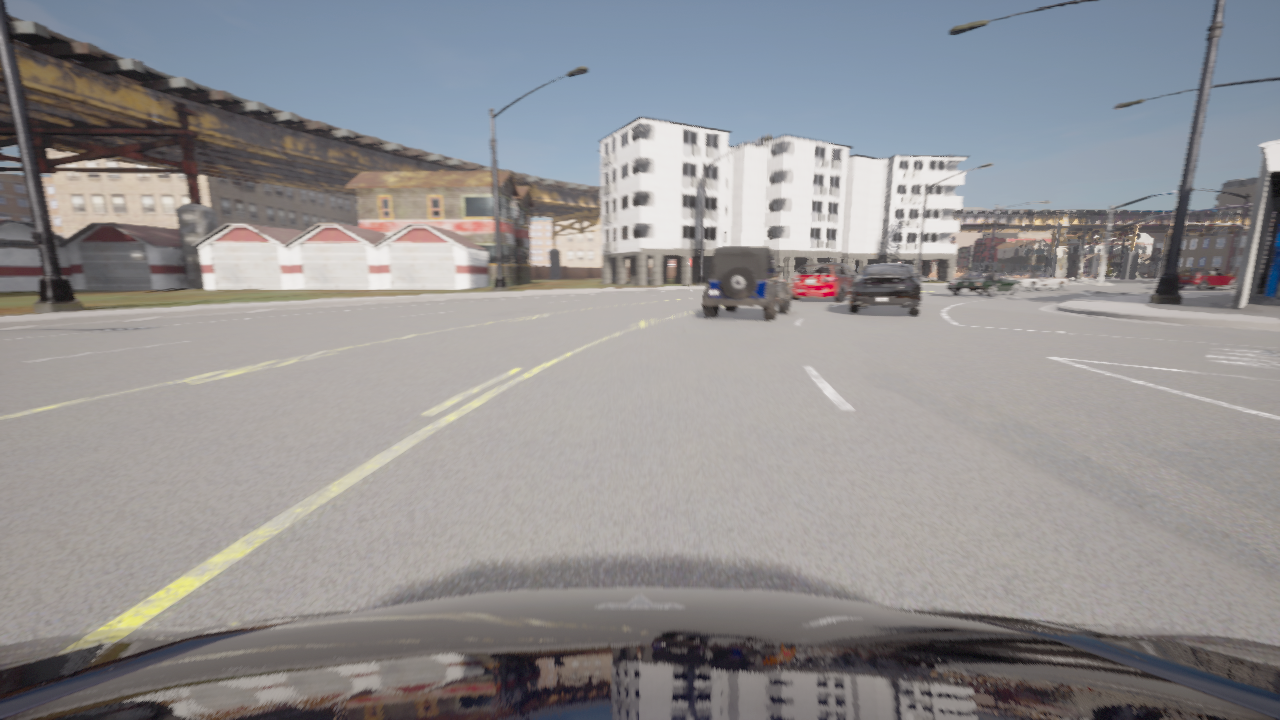cyclist: (0, 588, 1279, 719), (703, 247, 789, 320), (849, 263, 928, 315), (791, 263, 859, 301), (947, 272, 1021, 296), (1178, 269, 1237, 289), (1008, 272, 1067, 291), (1004, 272, 1012, 276)
